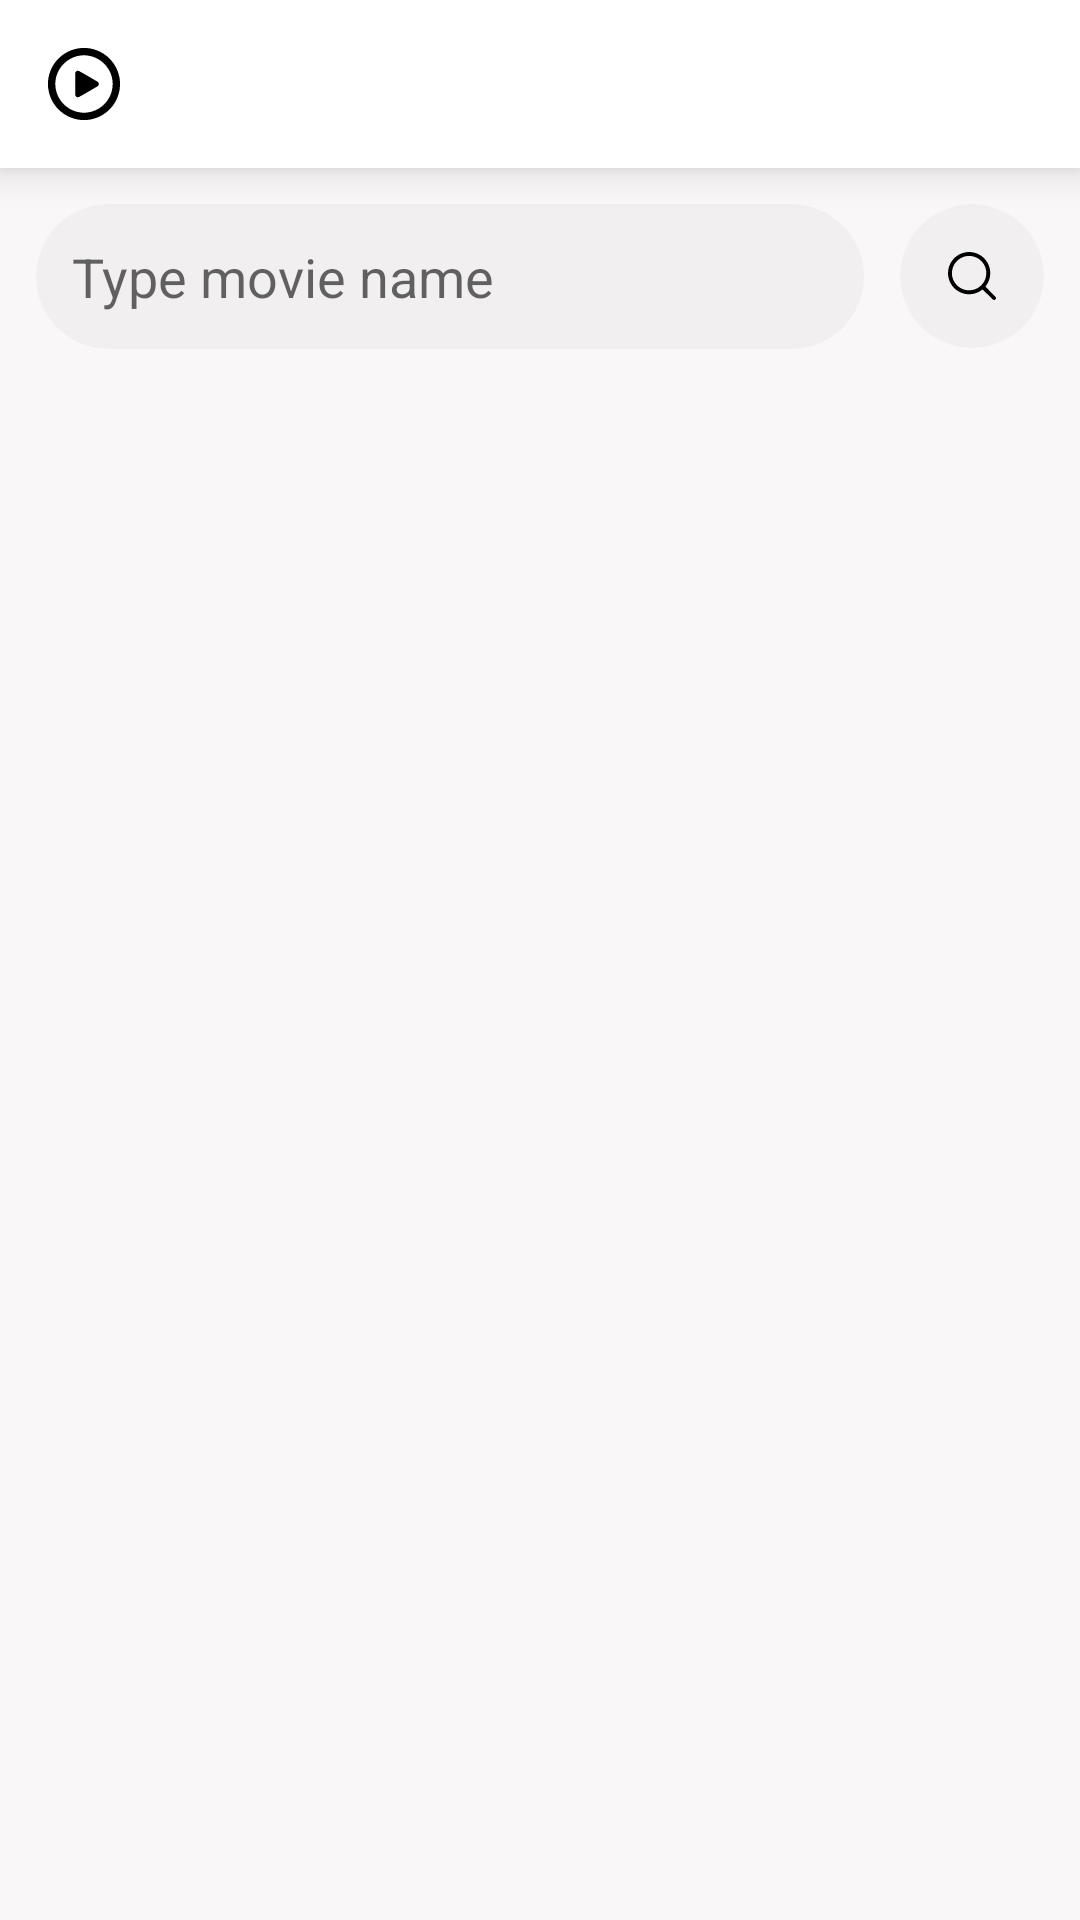

Screen size 1080 x 1920. Icon name, then its center in pixels as point (x, y):
search: point (972, 276)
